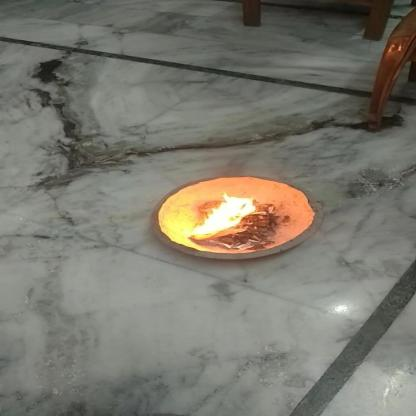fire: (193, 189, 260, 241)
